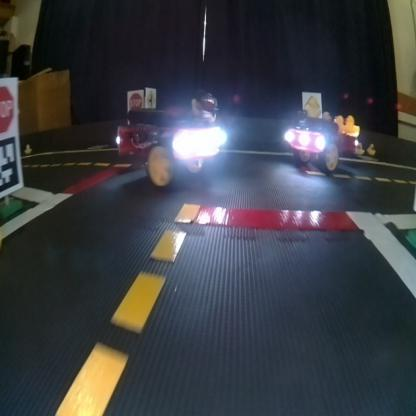duckiebot: (116, 86, 231, 204), (281, 121, 356, 194)
